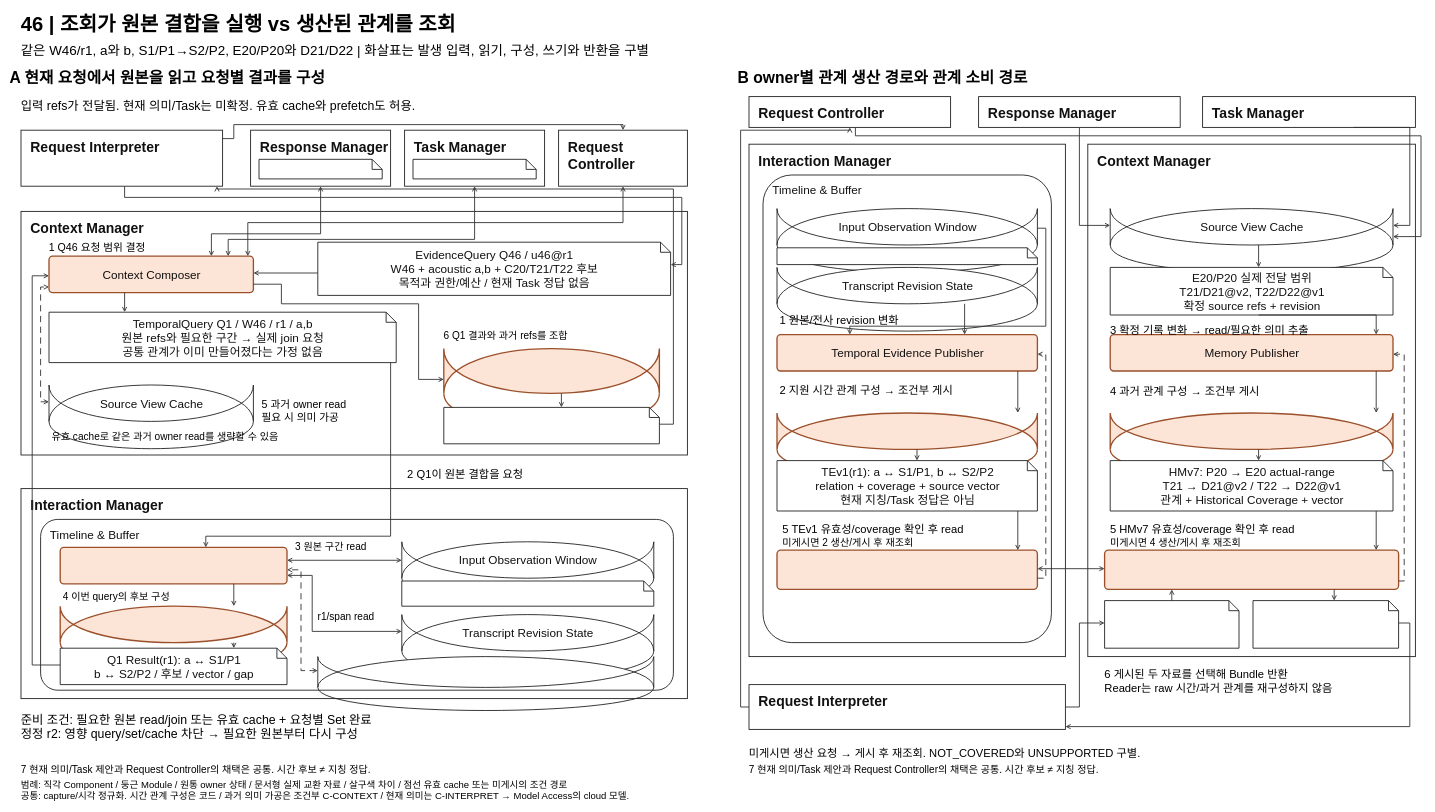
Some shapes in this 1435 by 812 pixel diagram are drawn without their labels. The box of each missing label's shape, as (x1, y1, x2, y2) in pixels:
Bundle: Q1/r1 + E20/P20 refs D21@v2, D22@v1 + vector/gap: (443, 407, 660, 444)
Bundle: TEv1 HMv7 + refs vector / gap: (1252, 600, 1399, 648)
D21@v2 / D22@v1: (412, 159, 536, 179)
E20 / P20: (258, 159, 382, 179)
Episodic Memory Repository: (1109, 412, 1393, 450)
Evidence Reader: (1104, 549, 1399, 590)
Q46 / r1 W46 + a,b C20/T21/T22: (1104, 600, 1239, 648)
raw refs: S1/P1, S2/P2: (776, 247, 1038, 265)
Request Evidence Set: (443, 348, 660, 394)
S1/P1 / S2/P2 / raw refs: (401, 580, 654, 606)
Temporal Evidence Reader: (776, 549, 1038, 590)
Temporal Evidence Repository: (776, 412, 1038, 450)
Temporal Evidence Resolver: (59, 546, 287, 584)
Temporal Query Cache: (317, 656, 654, 688)
Temporal Query State: (59, 605, 287, 643)
